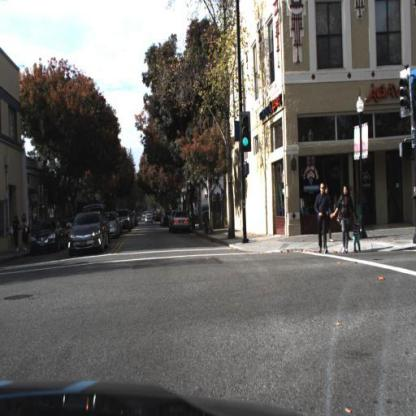car: (67, 210, 111, 256), (30, 219, 65, 256), (106, 208, 120, 244), (171, 213, 191, 238)
pedestrian: (331, 185, 355, 255), (313, 179, 334, 255), (19, 211, 32, 255), (349, 215, 364, 251), (10, 213, 21, 255)
trafficLight: (240, 112, 252, 152)
